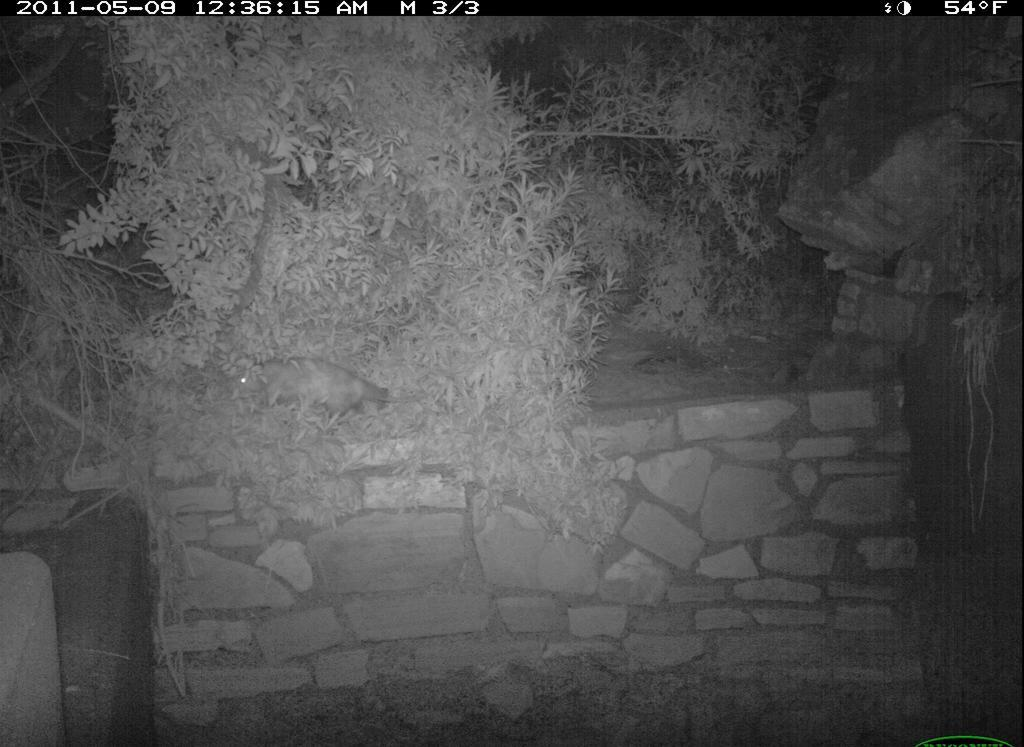opossum: (217, 344, 442, 452)
